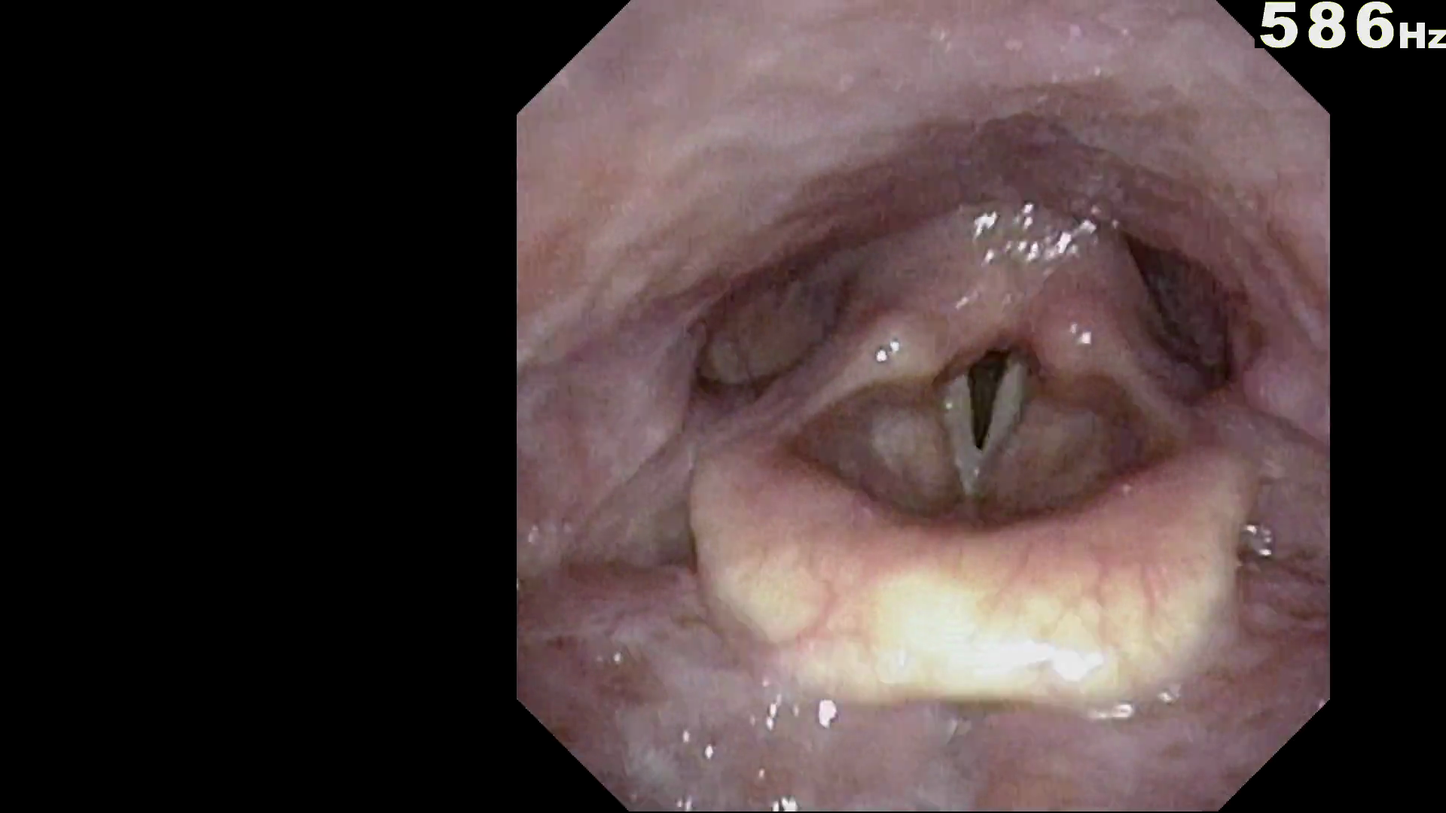epiglottis: (711, 447, 1219, 655)
